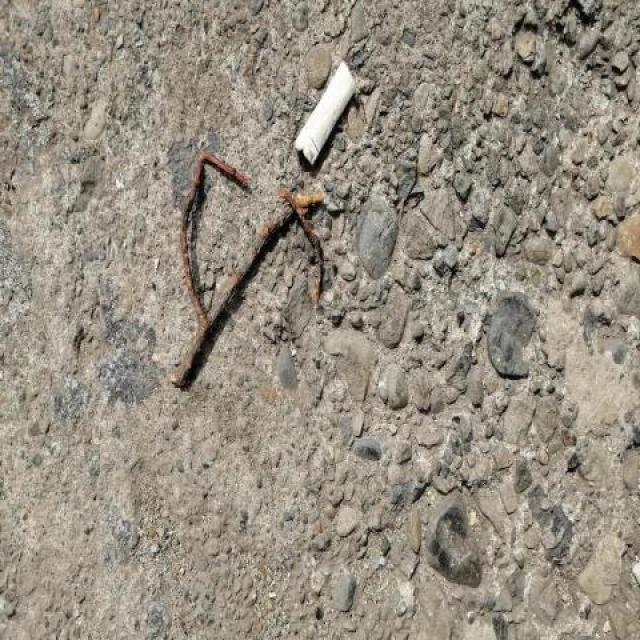non-organic waste: (292, 54, 361, 170)
